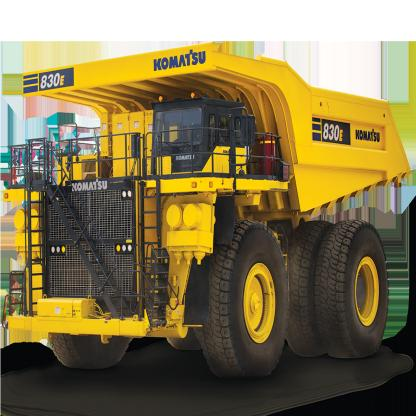dump_truck: (6, 38, 410, 376)
